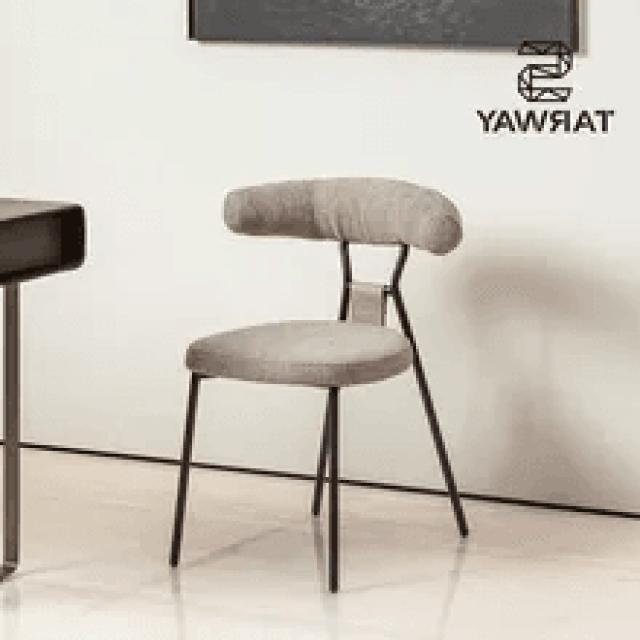chair: (164, 171, 466, 592), (184, 172, 466, 388)
